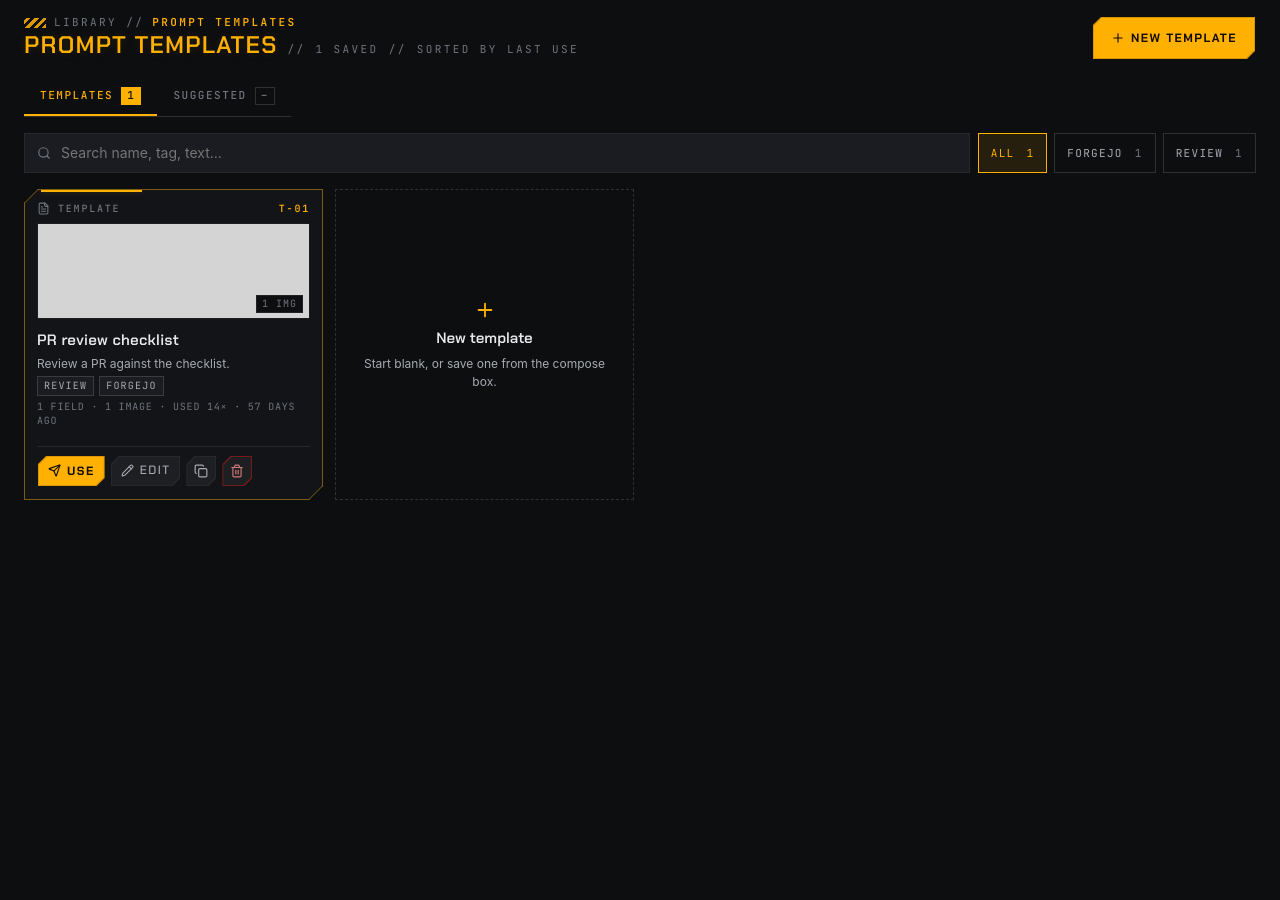
Test case: a 409 on delete deletes nothing, says so, and reloads the current record
Step 1. Click the button named "delete pr review checklist" → (237, 471), box [221,455,253,487]
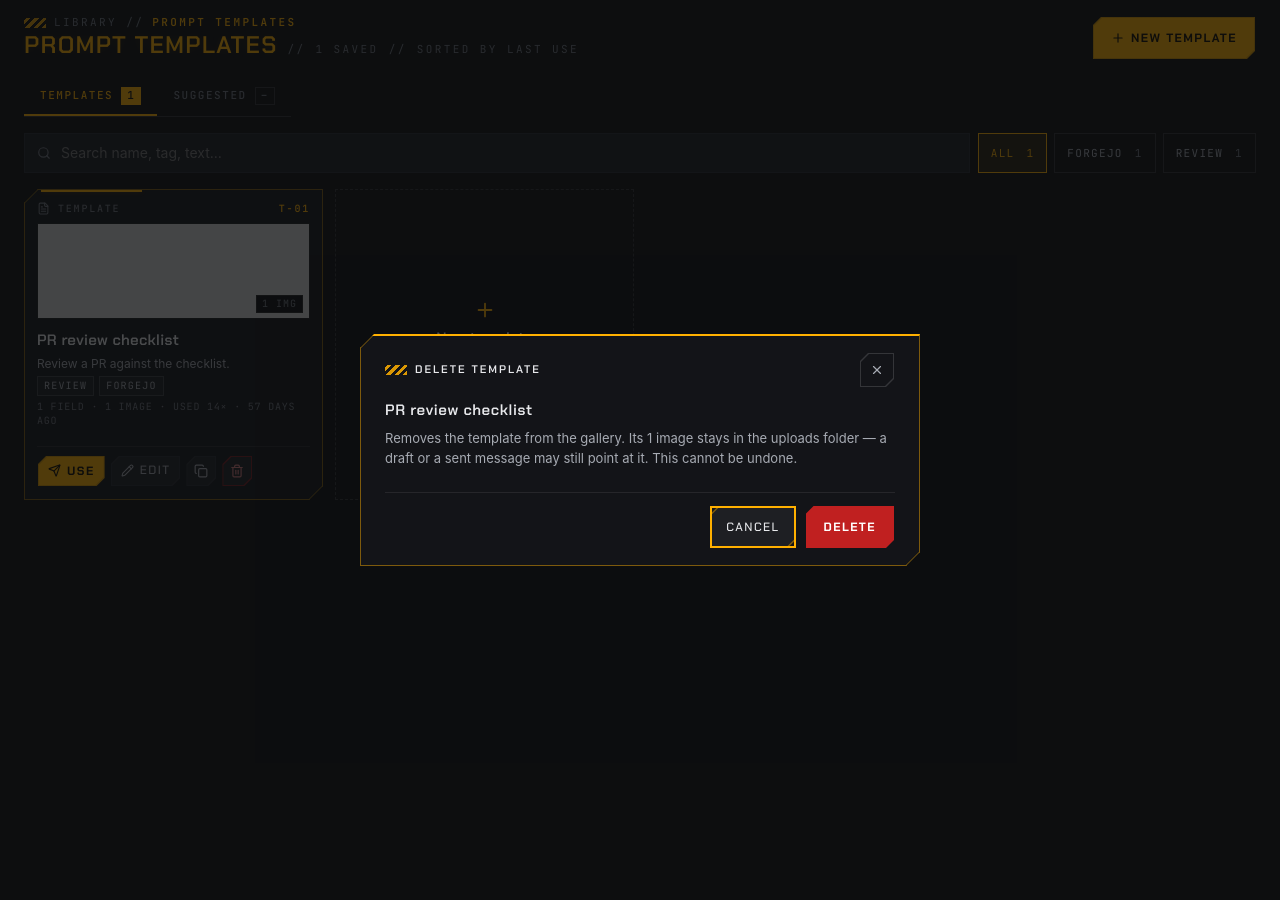
Step 2. Click the button "Delete" → (850, 527), box [804,505,895,549]
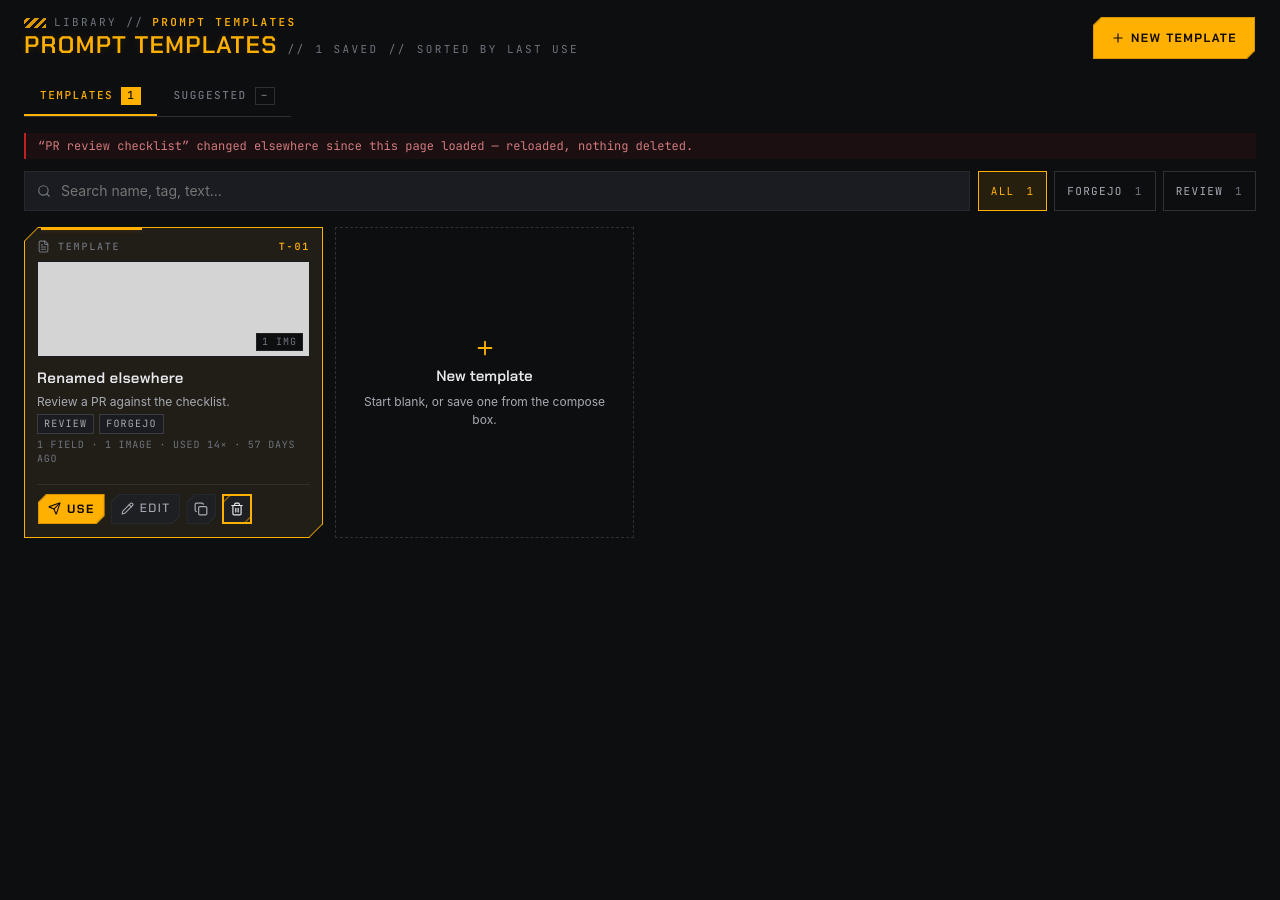
Now the link "Renamed elsewhere" is shown, box [37,368,184,388]
